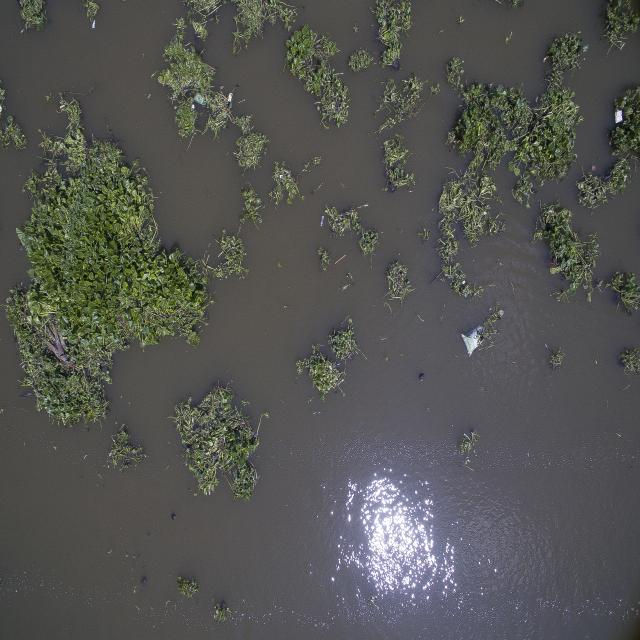debris: (38, 314, 72, 367), (459, 325, 489, 354), (431, 267, 447, 283), (331, 252, 348, 265), (18, 388, 33, 401), (354, 201, 372, 209), (59, 104, 67, 112)
plastic: (192, 90, 210, 111), (613, 107, 626, 125), (390, 59, 404, 73), (226, 88, 236, 105), (138, 576, 148, 591), (387, 182, 397, 195), (318, 212, 326, 228), (144, 90, 154, 102), (216, 601, 228, 611), (418, 372, 427, 385), (90, 18, 97, 30), (589, 163, 598, 172), (170, 512, 176, 522)
